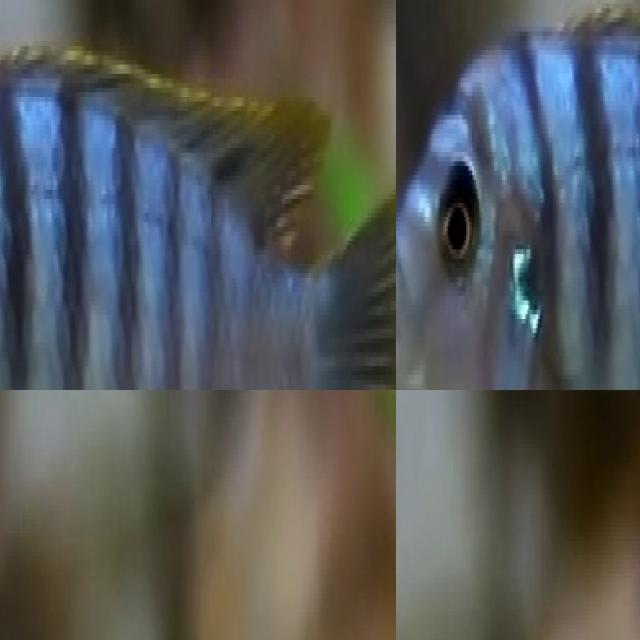fish: (0, 0, 396, 390), (396, 0, 640, 390)
